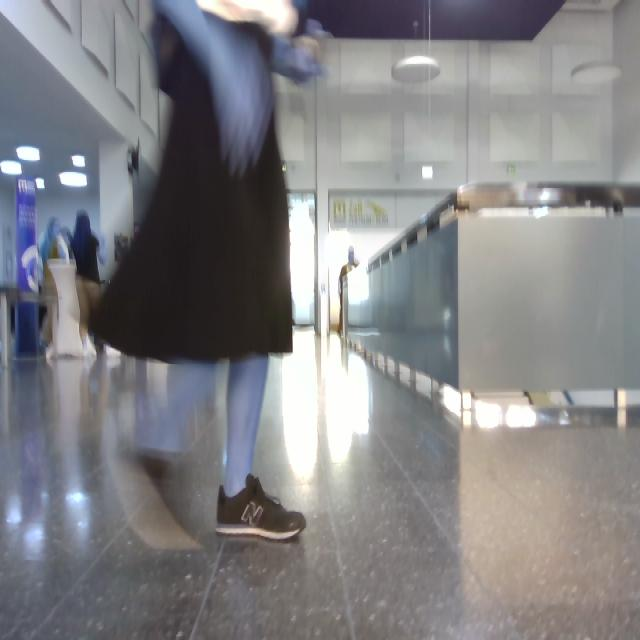light bulb: (392, 56, 440, 84), (392, 58, 440, 84), (572, 63, 622, 84), (506, 406, 537, 429), (476, 404, 502, 429), (17, 146, 41, 162), (60, 174, 87, 187), (1, 163, 21, 175), (72, 156, 85, 169)
person: (95, 1, 321, 540), (72, 211, 104, 357), (40, 218, 71, 298), (44, 306, 54, 345)
staircase: (345, 184, 640, 427)
tiled floor: (1, 331, 640, 639)
